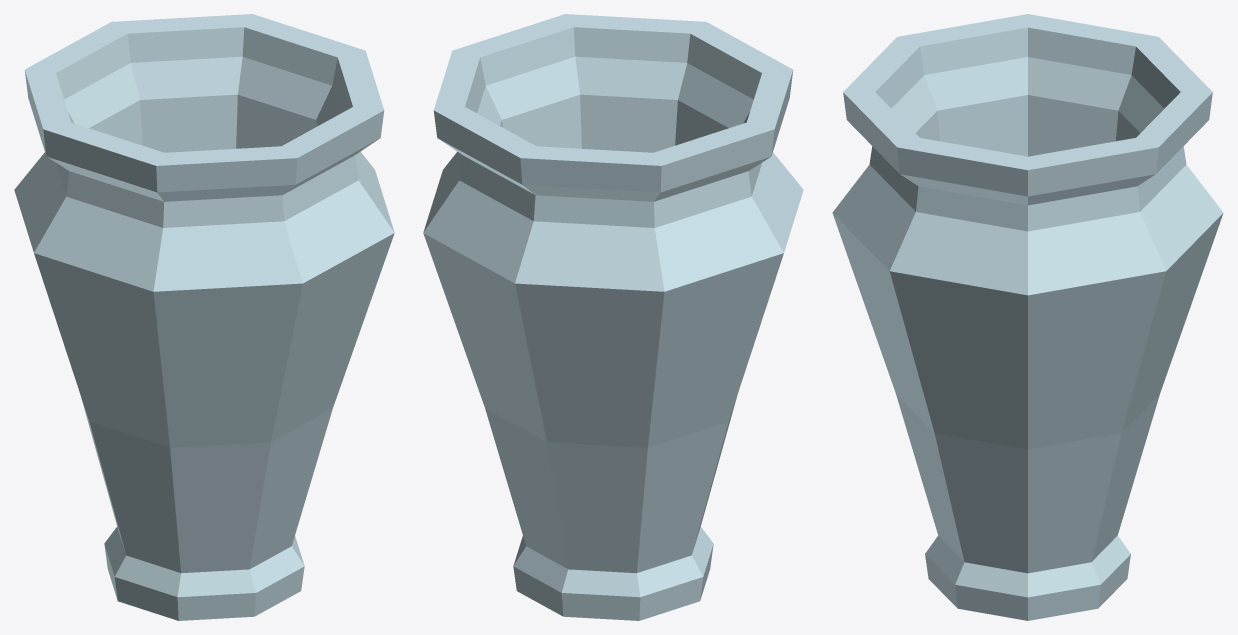
Rendered from Vase.glb.
3 views of the same model, side by side, from view 1: azimuth 30°, elevation 25°; view 2: azimuth 150°, elevation 25°; view 3: azimuth 270°, elevation 25° (orthographic).
Parts seen in each view (by area): view 1: Vase_Cylinder.004; view 2: Vase_Cylinder.004; view 3: Vase_Cylinder.004.
Boxes of the visible parts, x1,y1,x2,y2 form: Vase_Cylinder.004: (14,14,394,620); Vase_Cylinder.004: (423,14,803,620); Vase_Cylinder.004: (832,14,1223,620).
Size of the model in its own units: 0.2286 by 0.3138 by 0.2286.
